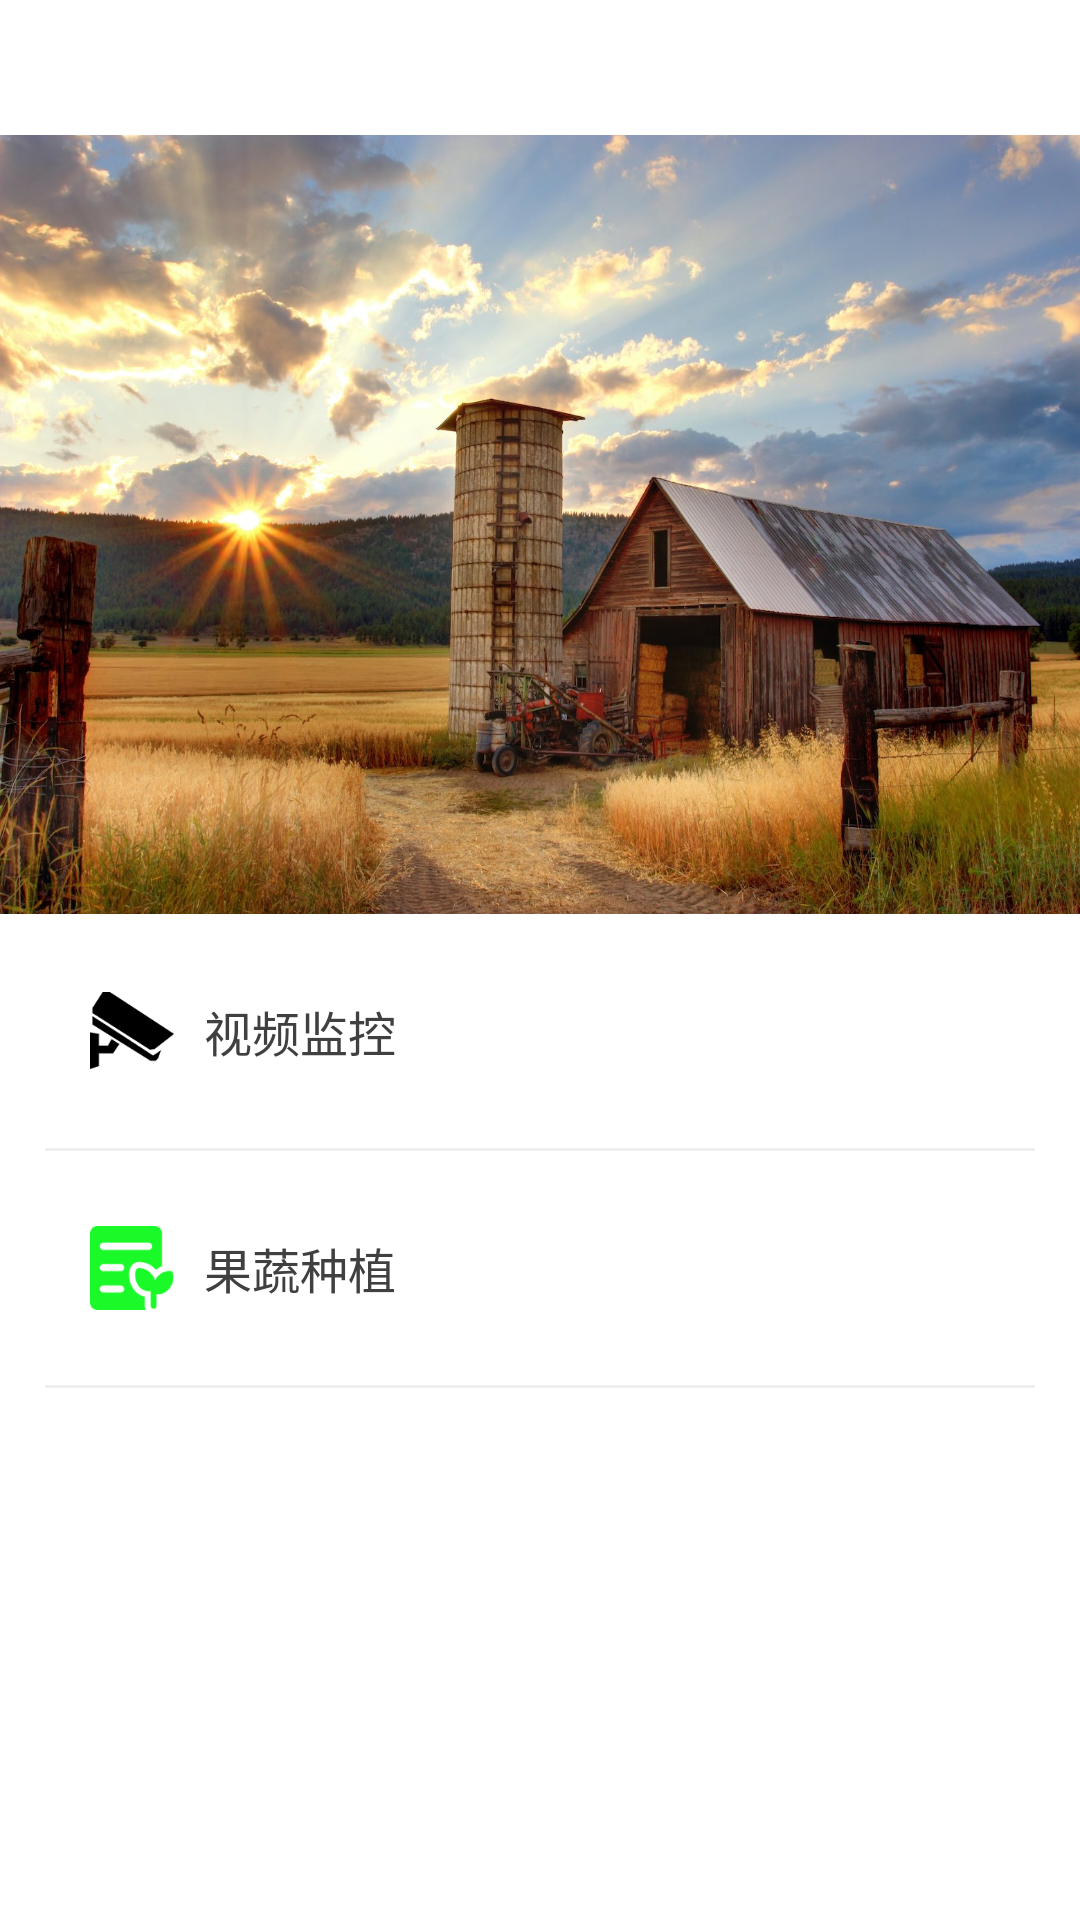

Where to tap for icons on this 1080*1920 app screen, as [x,y]:
customer plant: [132,1268]
video monitor: [132,1030]
